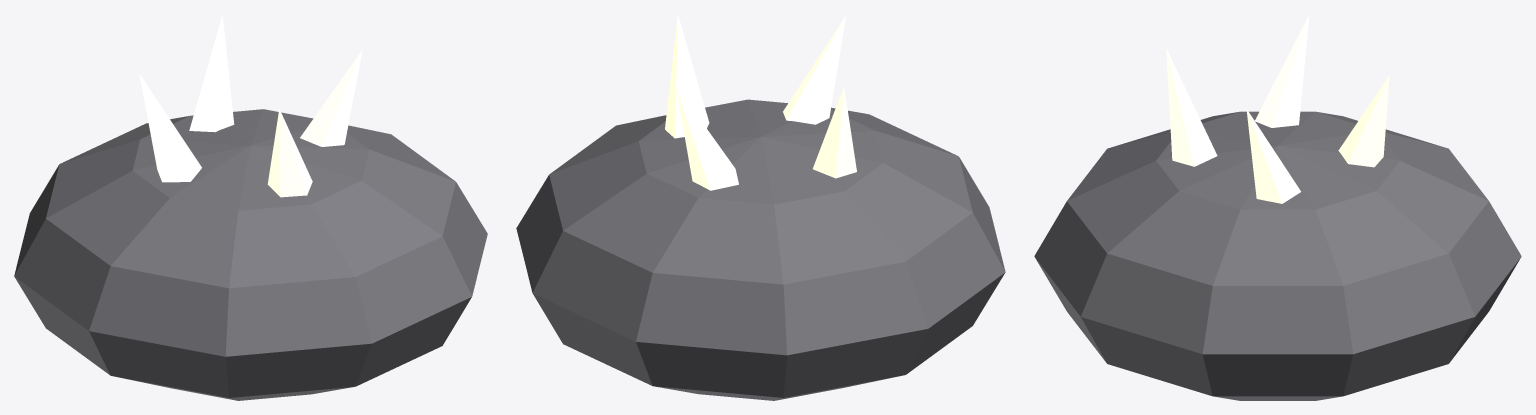
File: ore_node_earth.fbx
3 renders of one model, left to right at view 1: azimuth 30°, elevation 25°; view 2: azimuth 150°, elevation 25°; view 3: azimuth 270°, elevation 25°, orthographic. The views are drawn at different scales.
Parts seen in each view (by area): view 1: Cone.003; view 2: Cone.003; view 3: Cone.003.
Boxes of the visible parts, x1,y1,x2,y2 form: Cone.003: (14, 15, 487, 400); Cone.003: (516, 15, 1005, 400); Cone.003: (1034, 14, 1521, 400).
Size of the model in its own units: 228 by 166 by 240.
